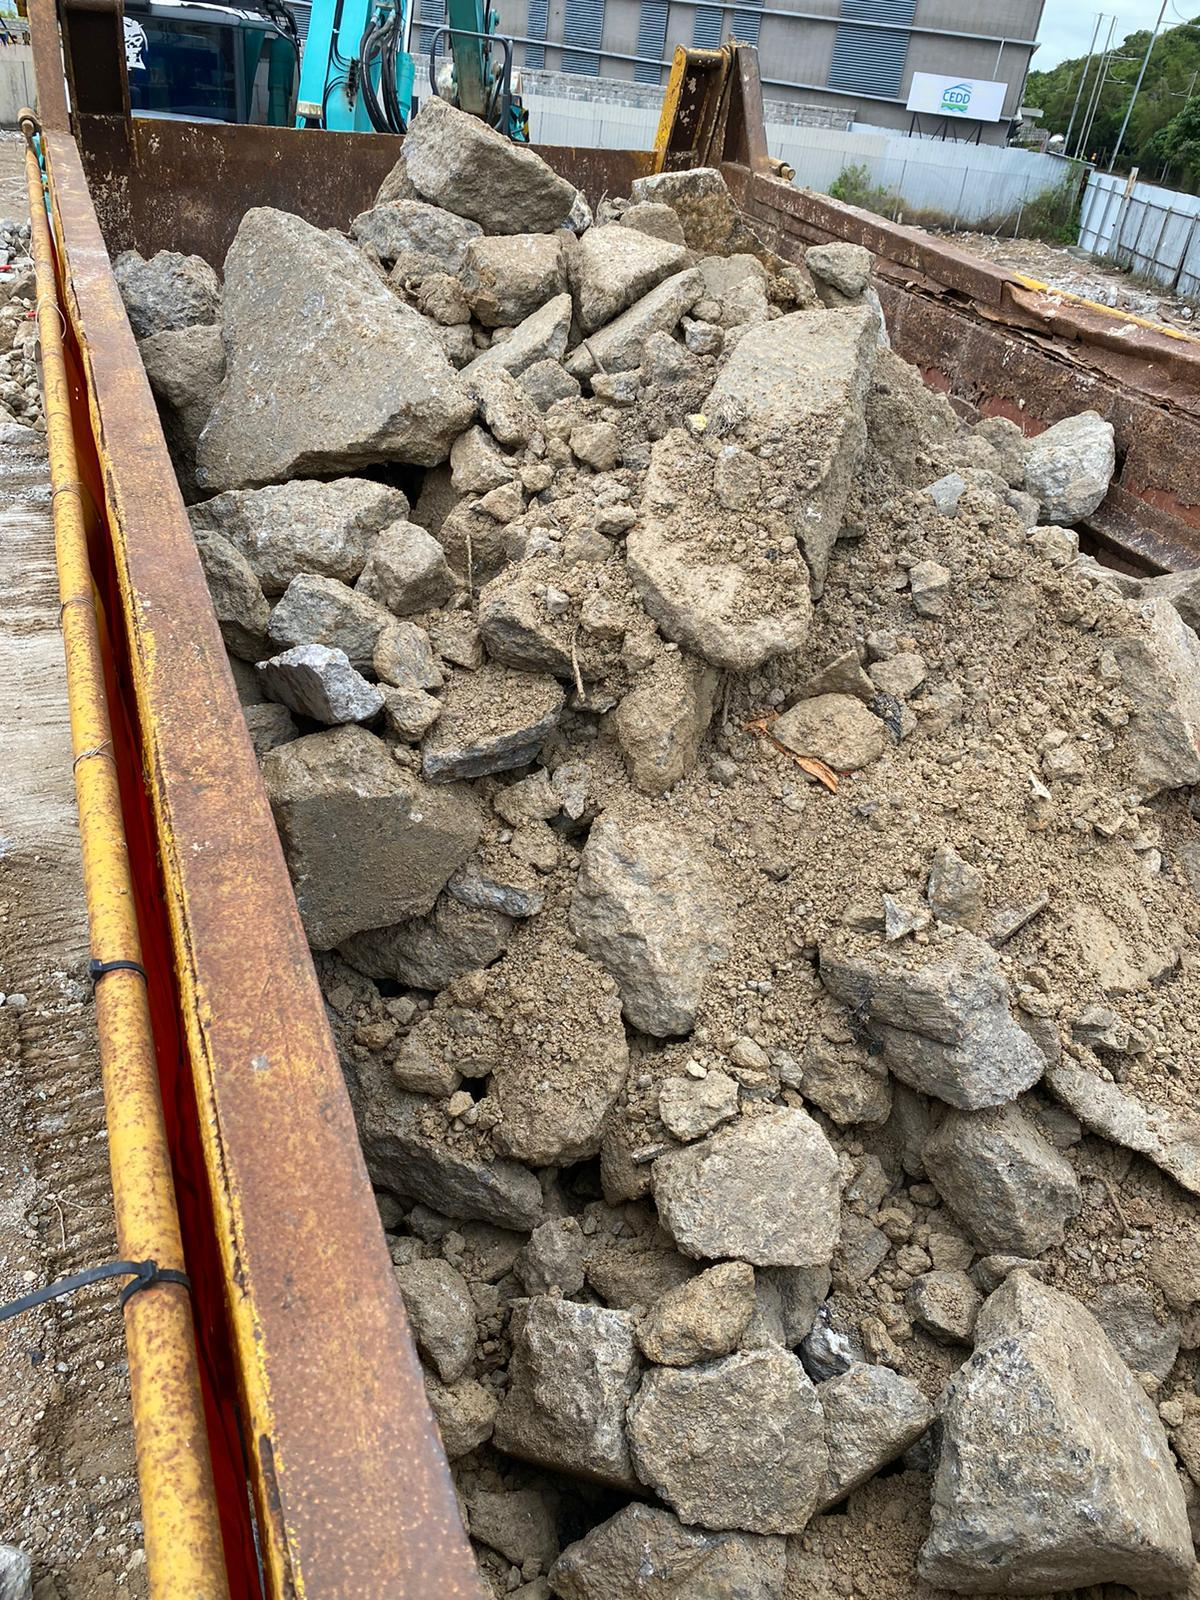dry: (117, 87, 1187, 1585)
